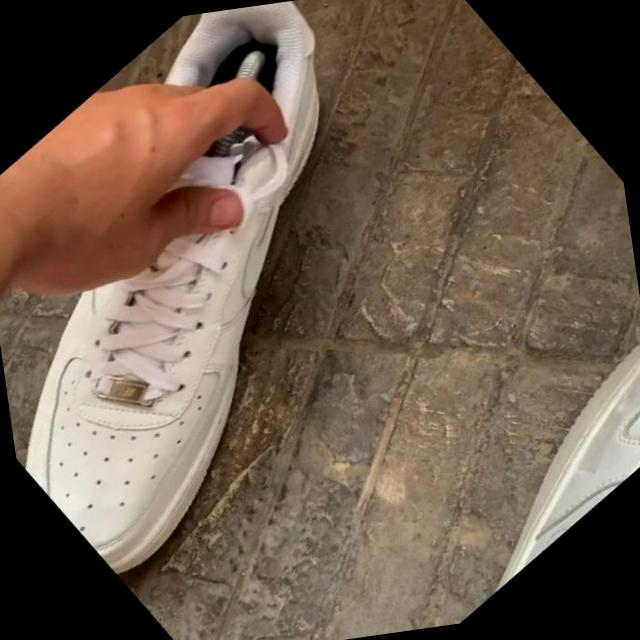nike_fake_airforce: (0, 0, 549, 593)
